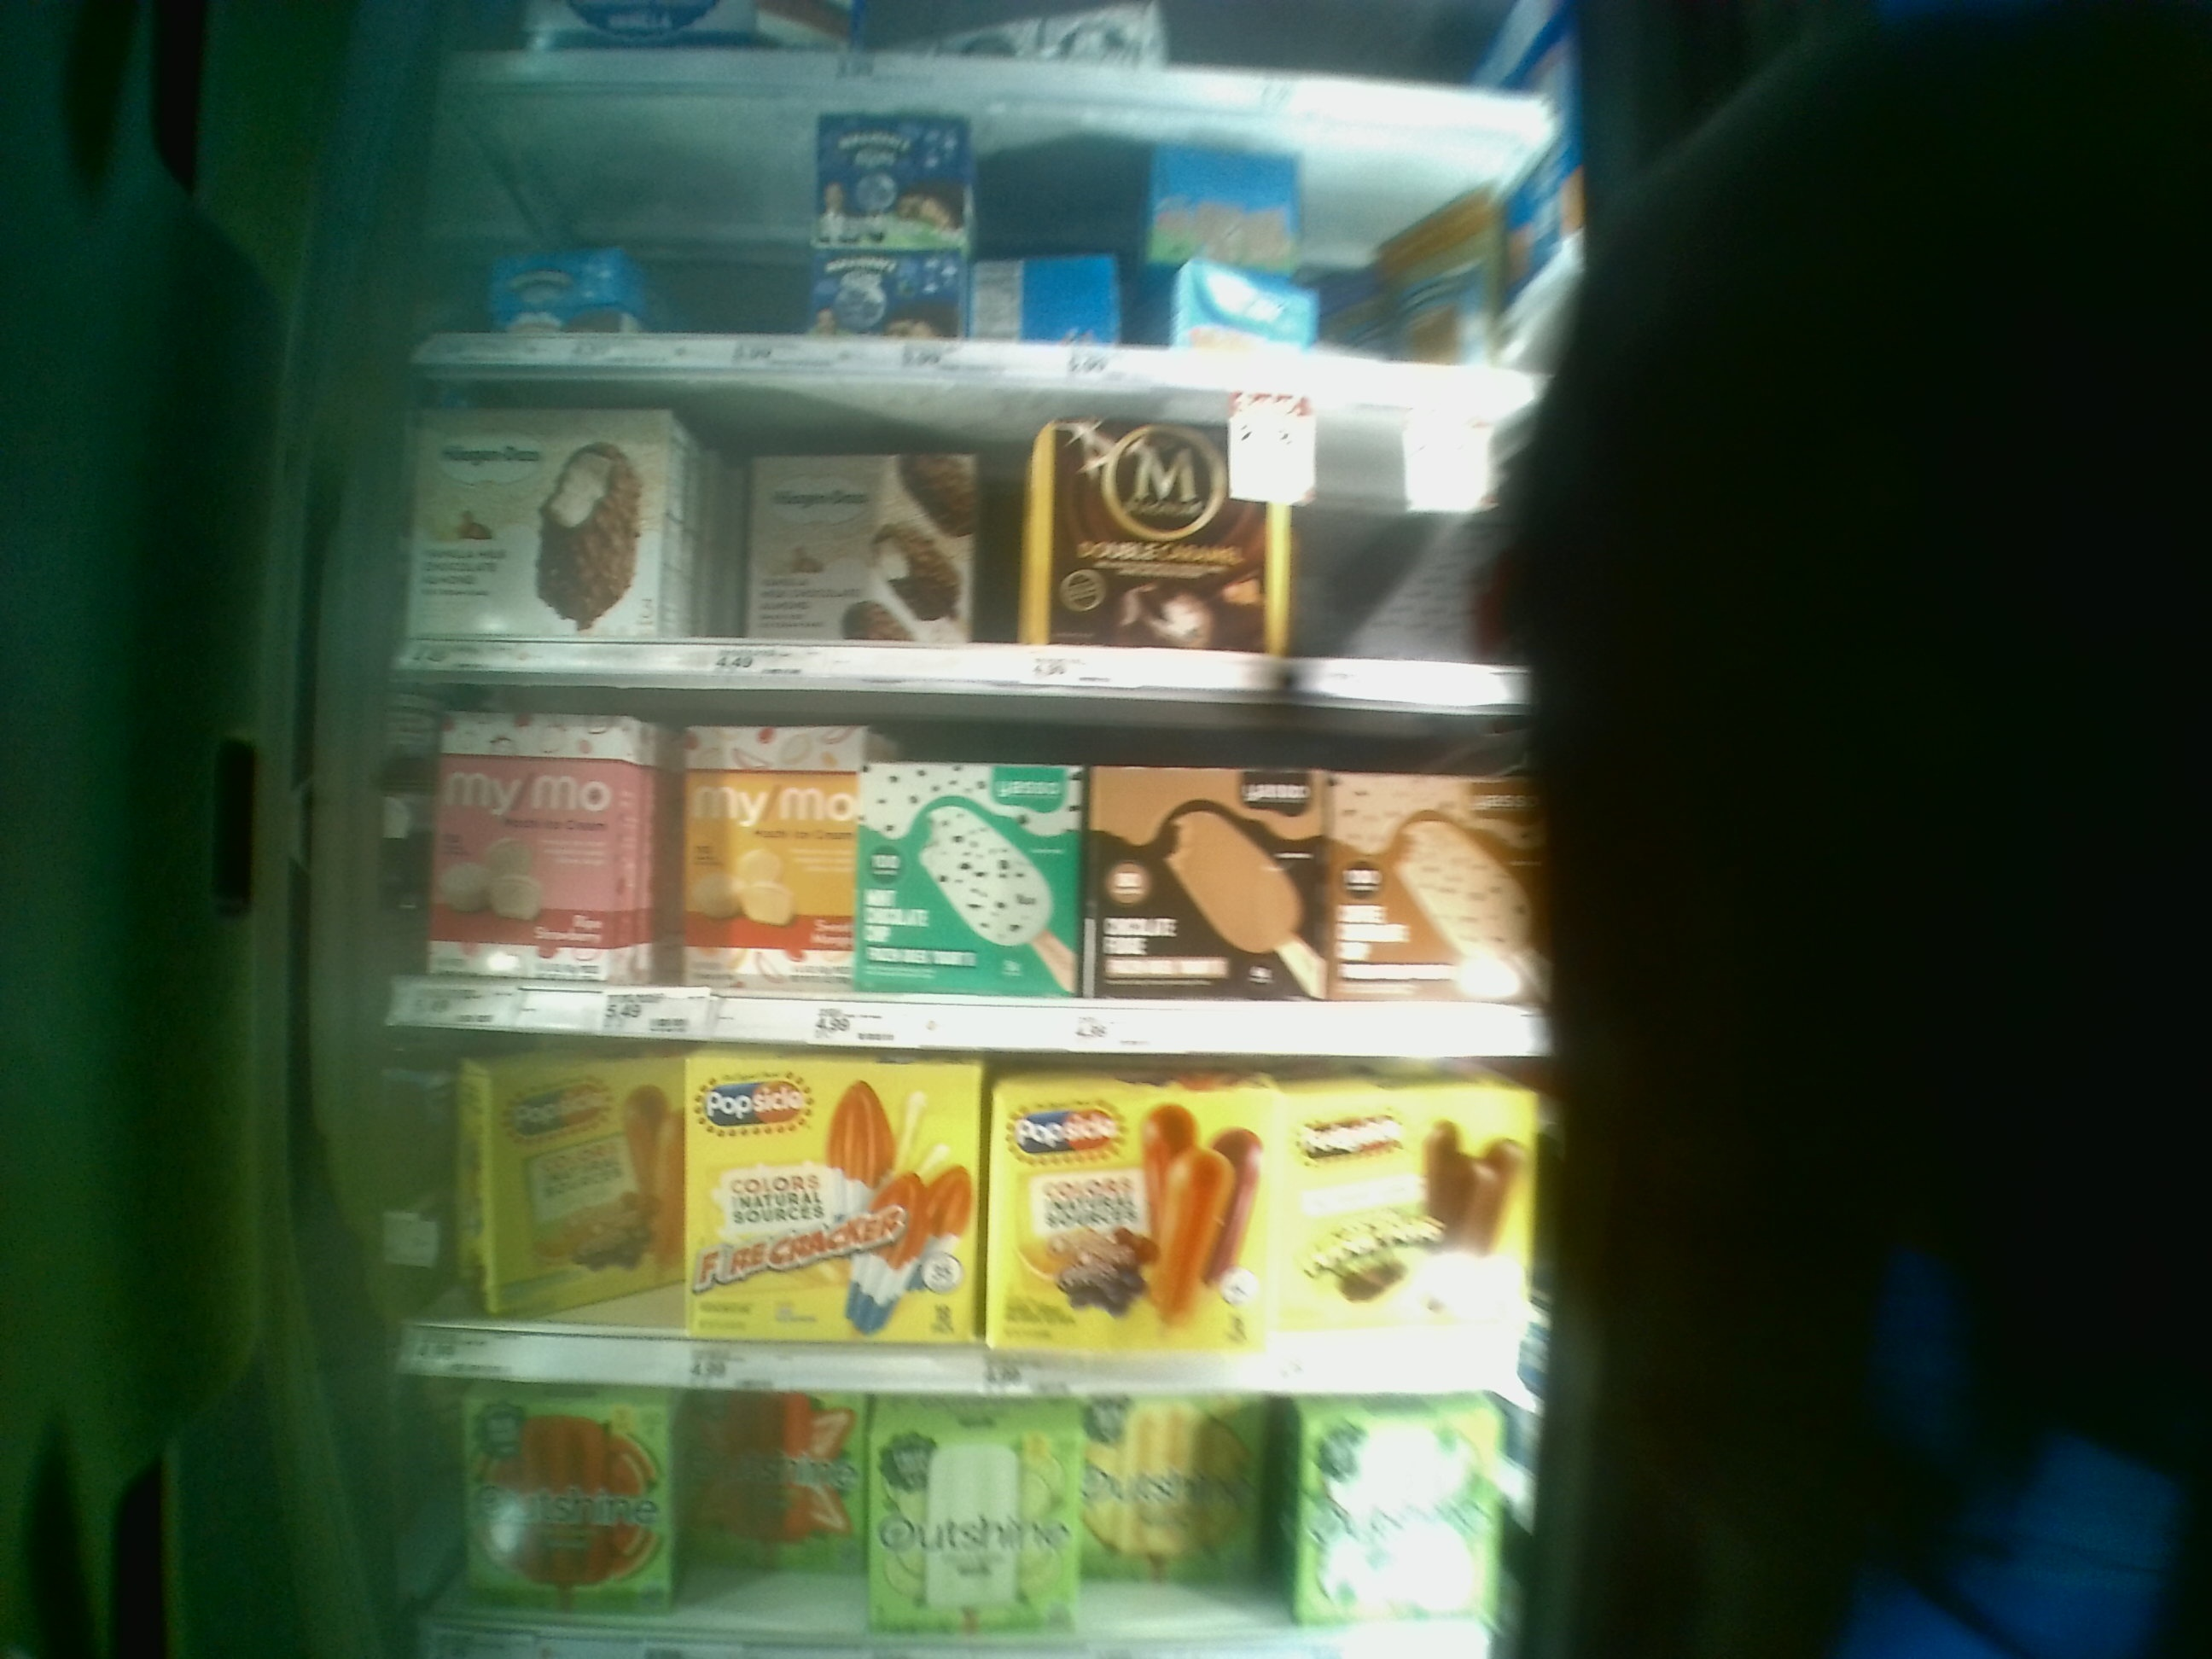ice-cream-shelf: (380, 678, 1566, 1047), (381, 1040, 1545, 1389), (383, 368, 1521, 681)
